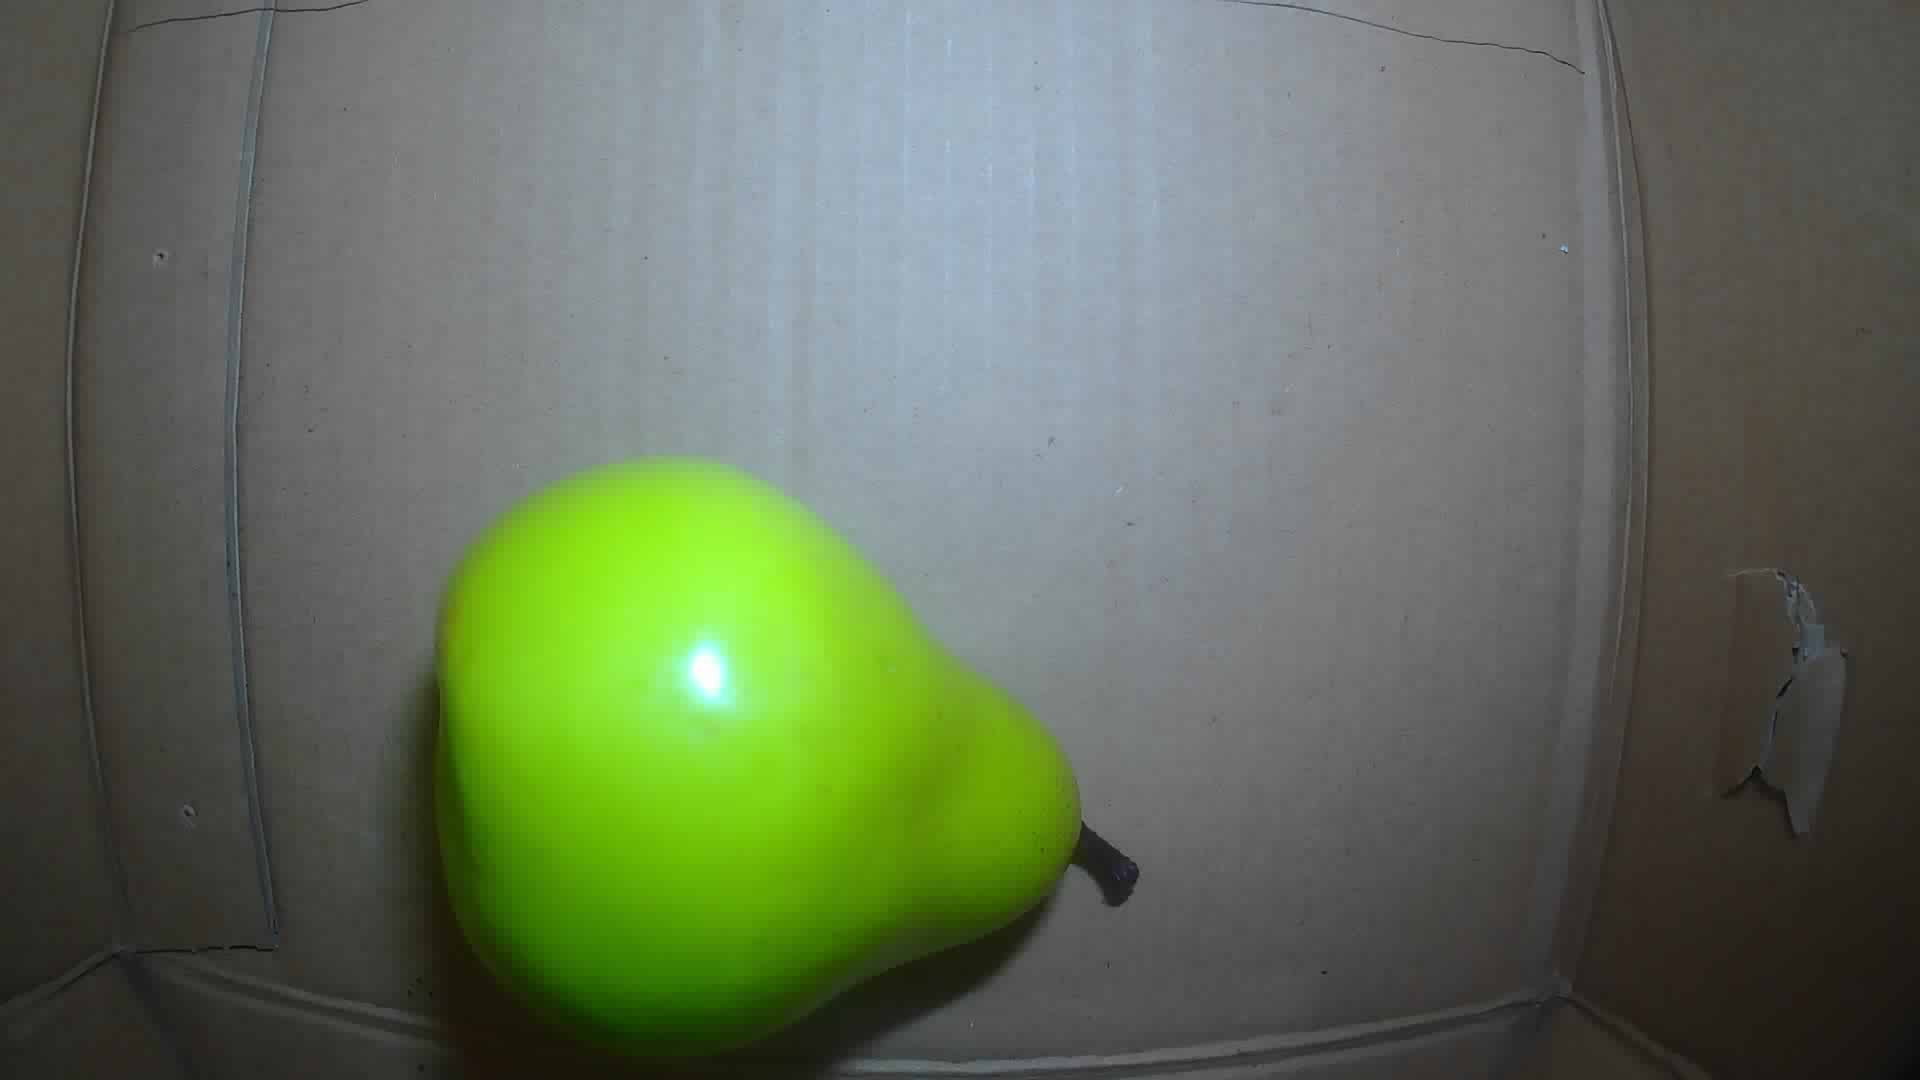pear: (433, 454, 1142, 1058)
